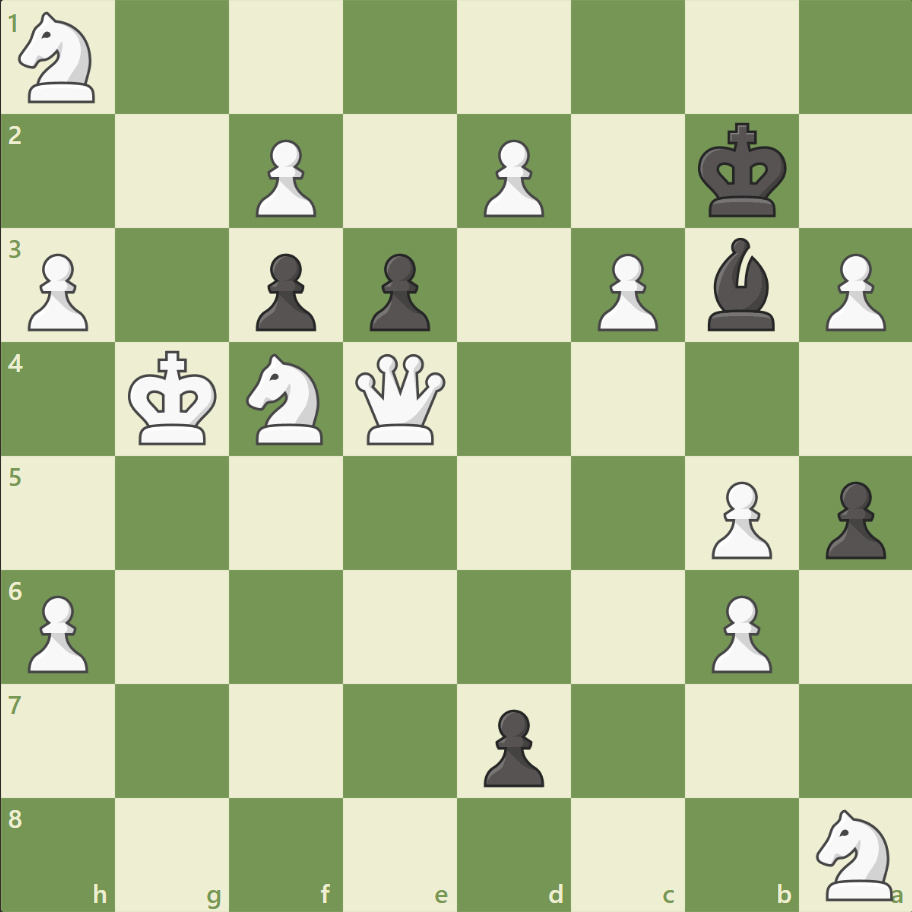K: (124, 344, 224, 452)
N: (11, 7, 108, 110), (806, 802, 903, 904), (238, 348, 335, 450)
P: (701, 586, 776, 677), (20, 586, 95, 677), (701, 473, 776, 564), (20, 246, 95, 337), (474, 132, 549, 223), (247, 132, 322, 223), (815, 246, 889, 337), (588, 246, 662, 337)
Q: (351, 349, 450, 449)
b: (698, 233, 782, 336)
k: (692, 117, 792, 225)
p: (474, 700, 549, 791), (247, 246, 322, 337), (815, 473, 889, 564), (361, 246, 435, 337)
